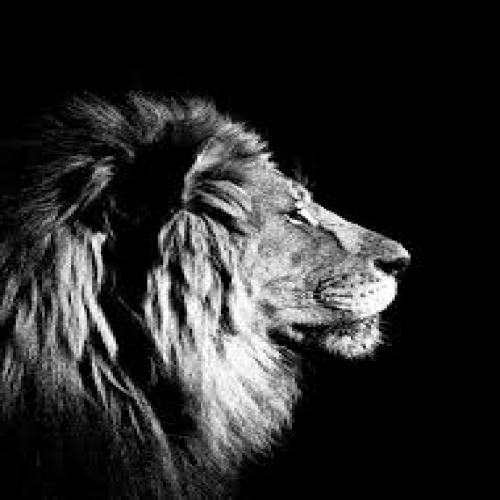lion-endangered: (0, 101, 415, 500)
